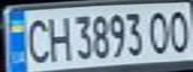3: (69, 11, 93, 61), (124, 9, 148, 57)
8: (90, 10, 112, 60)
9: (109, 10, 130, 58)
C: (21, 15, 51, 64)
H: (45, 12, 72, 63)
O: (145, 7, 175, 55), (163, 6, 193, 54)
